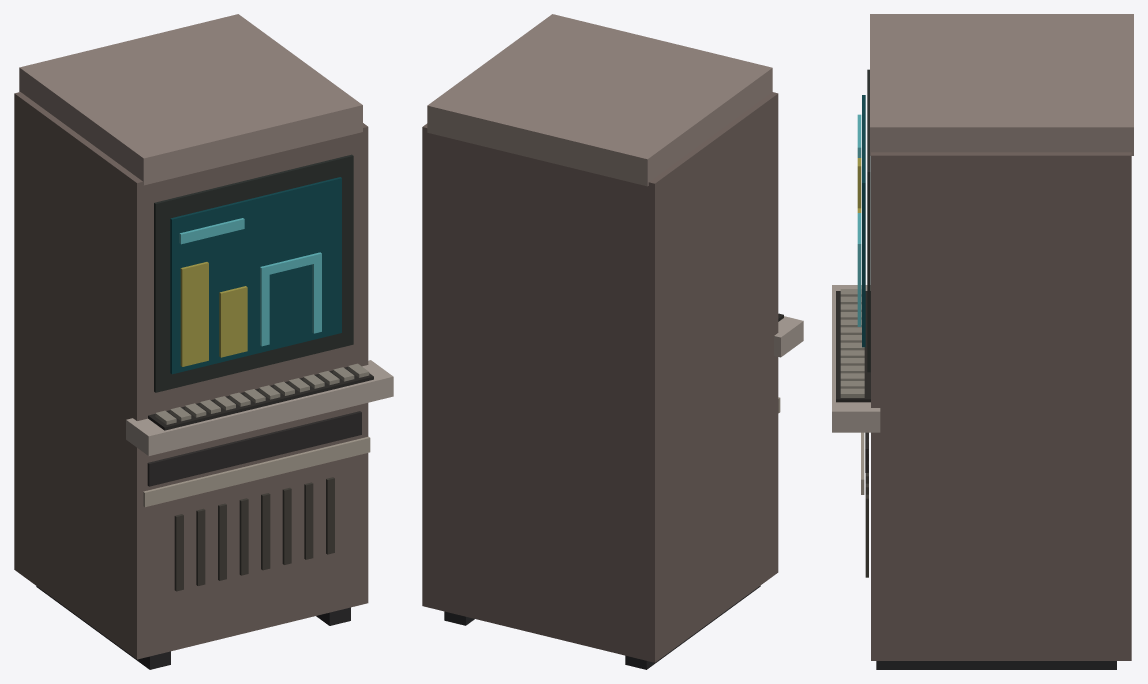
The model's file is CMU3DStandingASRSTerminal.glb.
3 views of the same model, side by side, from view 1: azimuth 30°, elevation 25°; view 2: azimuth 150°, elevation 25°; view 3: azimuth 270°, elevation 25° (orthographic). The views are drawn at different scales.
Parts seen in each view (by area): view 1: ASRS standing case, ASRS top cap, turquoise display, display outer inset, projecting keyboard shelf, lower vertical air slot (×8), lower horizontal black recess, ASRS yellow chart bar (×2), lower bright rail, ASRS cyan chart (×4), keyboard black inset, ASRS cabinet foot; view 2: ASRS standing case, ASRS top cap, projecting keyboard shelf; view 3: ASRS standing case, ASRS top cap, ASRS cabinet foot, projecting keyboard shelf, keyboard black inset, display outer inset, turquoise display.
Part boxes in pixels (<box>): ASRS standing case: <box>14,92,368,659</box>; ASRS top cap: <box>19,14,362,185</box>; turquoise display: <box>170,177,341,374</box>; display outer inset: <box>154,154,353,392</box>; projecting keyboard shelf: <box>126,360,393,455</box>; lower vertical air slot (×8): <box>174,477,334,591</box>; lower horizontal black recess: <box>147,411,361,486</box>; ASRS yellow chart bar (×2): <box>180,262,247,366</box>; lower bright rail: <box>143,436,370,507</box>; ASRS cyan chart (×4): <box>179,218,321,346</box>; keyboard black inset: <box>148,367,373,430</box>; ASRS cabinet foot: <box>36,586,170,669</box>; ASRS standing case: <box>422,92,778,662</box>; ASRS top cap: <box>427,14,772,186</box>; projecting keyboard shelf: <box>774,316,803,357</box>; ASRS standing case: <box>871,152,1131,660</box>; ASRS top cap: <box>870,14,1133,155</box>; ASRS cabinet foot: <box>876,661,1116,669</box>; projecting keyboard shelf: <box>832,285,880,432</box>; keyboard black inset: <box>836,291,870,402</box>; display outer inset: <box>867,69,870,372</box>; turquoise display: <box>862,95,865,347</box>.
Size of the model in its own units: 0.76 by 1.53 by 0.765.
